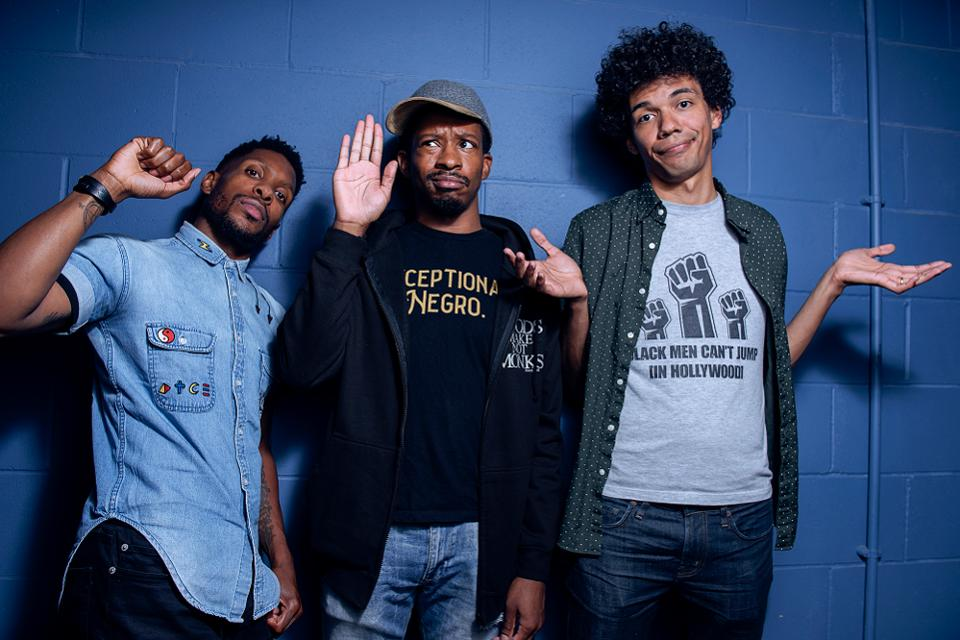bare: (623, 117, 725, 179), (408, 152, 486, 210), (210, 183, 284, 243)
